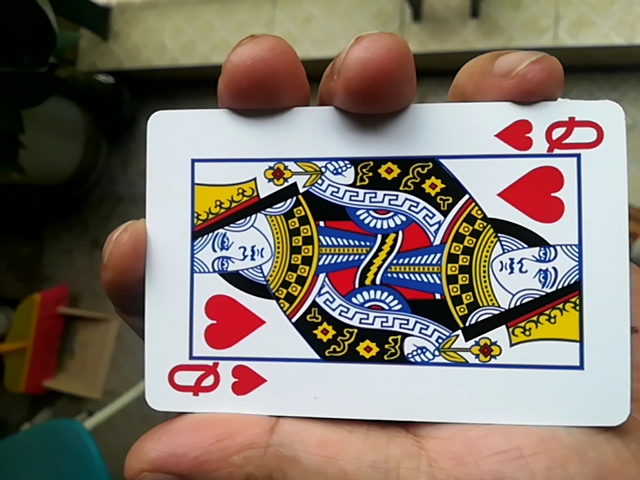hx q: (127, 104, 629, 433)
